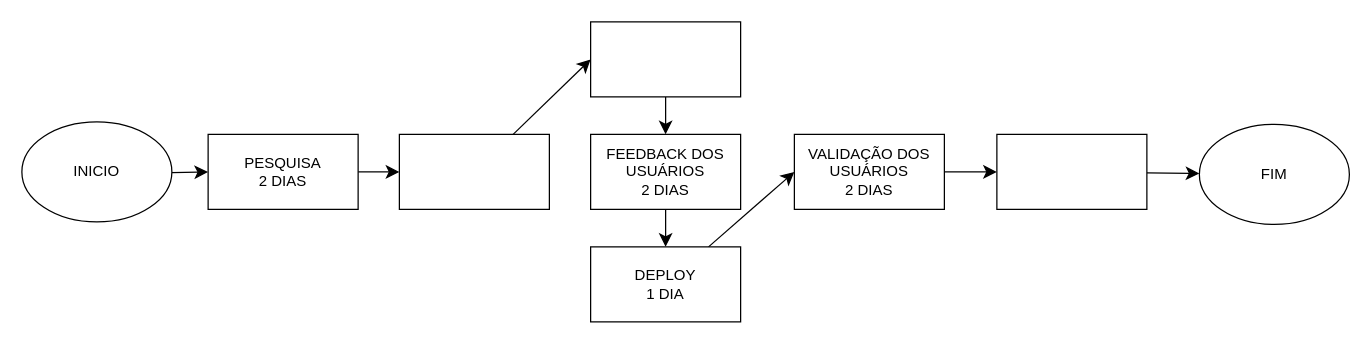
Image size: 1371x344. Some labels were removed from this diagram. Here are the shapes that lost their labels. From the top down, the box of each, then its label:
(589, 21, 741, 97): DESENVOLVIMENTO VERSÃO BETA 5 DIAS
(398, 133, 549, 209): FORMULAÇÃO DA PROPOSTA 1 DIA
(996, 133, 1147, 209): ENTREGA FINAL PARA FACULDADE 1 DIA
